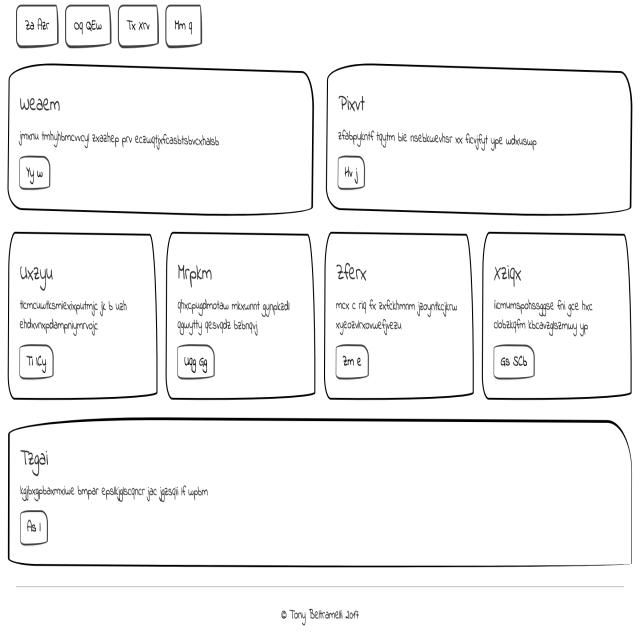Button: (491, 342, 537, 382), (176, 341, 216, 379), (334, 341, 369, 380), (19, 152, 50, 191), (19, 343, 54, 377), (17, 508, 49, 545), (336, 154, 365, 193)
Card: (8, 414, 633, 570), (8, 60, 314, 214), (326, 65, 632, 214), (481, 229, 632, 397), (164, 233, 315, 401), (8, 231, 158, 400), (324, 231, 475, 397)
Footer: (0, 584, 640, 640)
Heading 6: (174, 260, 216, 292), (19, 261, 55, 290), (19, 92, 57, 116), (335, 256, 370, 280), (491, 263, 524, 288), (20, 446, 50, 472), (338, 92, 367, 114)
Navigation Bar: (15, 1, 202, 49)
Paragraph: (334, 125, 538, 152), (175, 293, 291, 340), (17, 126, 218, 152), (334, 298, 459, 338), (18, 296, 128, 336), (494, 297, 592, 340), (17, 481, 209, 502)
